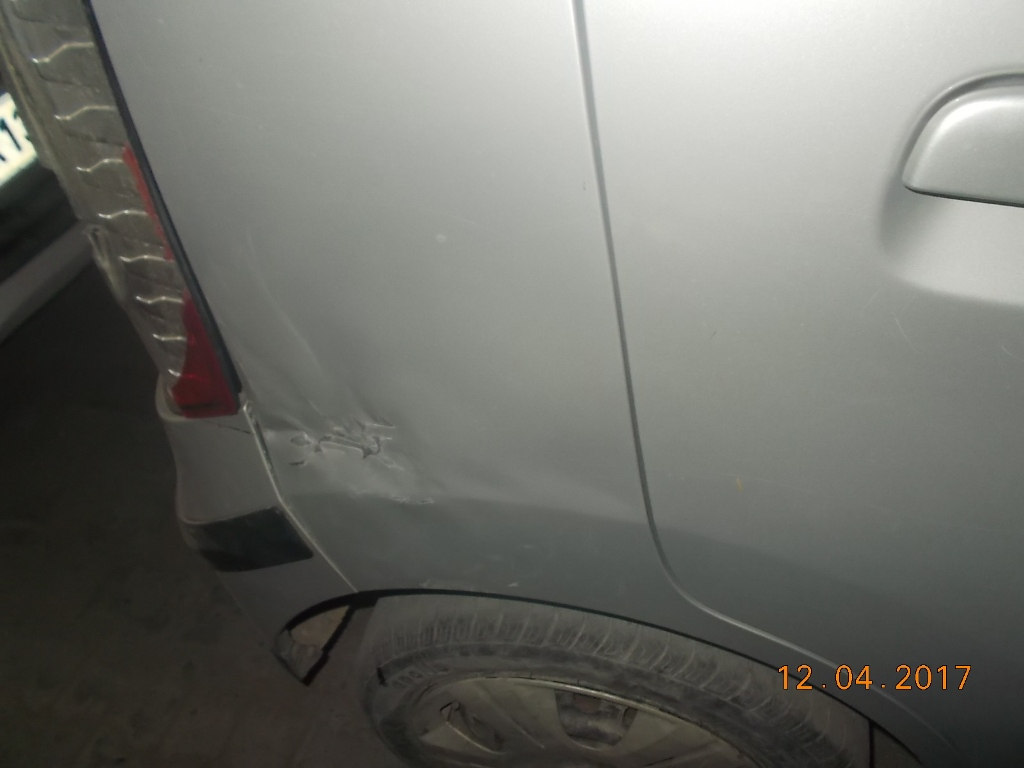Dent: (267, 383, 419, 484)
